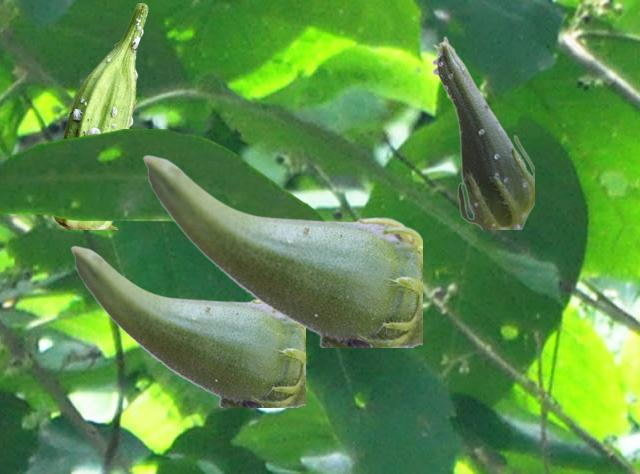okra: (142, 154, 421, 346), (70, 245, 304, 406), (53, 3, 147, 228), (431, 36, 533, 228)
